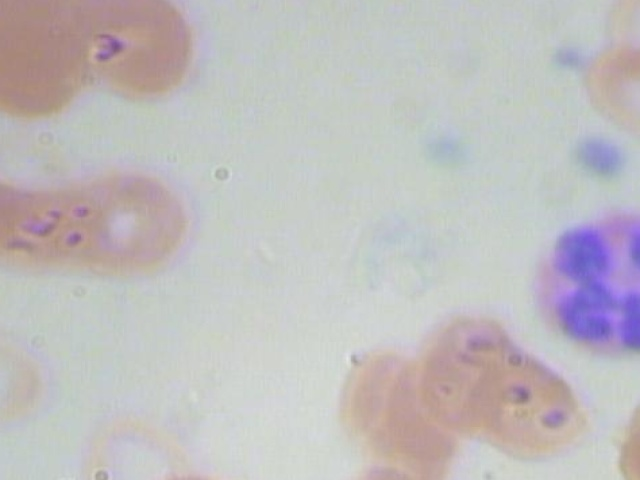Platelets: (566, 133, 626, 180)
RBC: (448, 345, 601, 460), (63, 149, 195, 280), (62, 0, 203, 103), (329, 339, 449, 445), (71, 405, 191, 480), (0, 13, 80, 118), (572, 36, 640, 151)
WBC: (526, 201, 640, 363)
